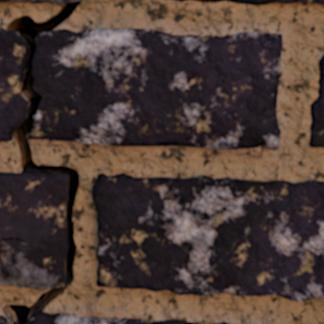brick: (92, 173, 323, 301), (0, 173, 67, 289), (310, 56, 323, 146), (228, 0, 323, 4), (17, 0, 73, 2), (198, 0, 224, 1), (217, 321, 228, 323)
broken_brick: (30, 27, 283, 150), (0, 26, 26, 141), (28, 311, 194, 323), (0, 314, 8, 323)
crack: (0, 0, 80, 323)
